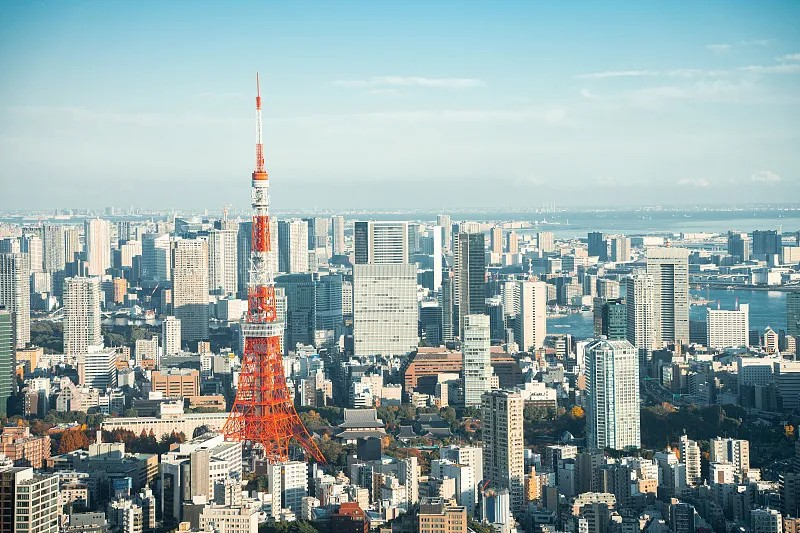Tokyo: (222, 67, 328, 467)
